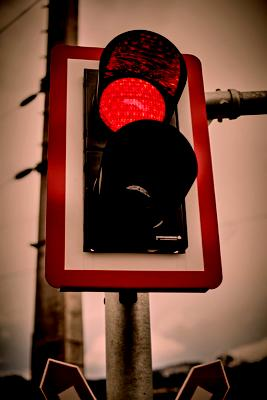International Road Signal Light: (51, 37, 219, 293)
